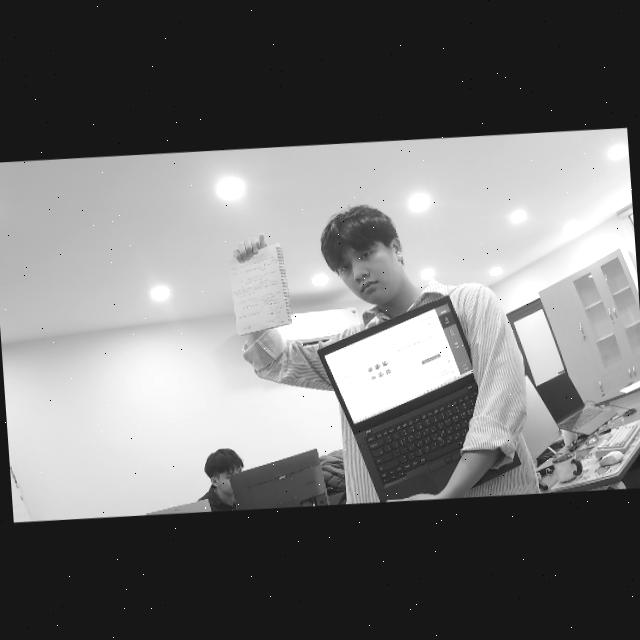document: (226, 243, 292, 335)
face: (325, 208, 411, 300)
